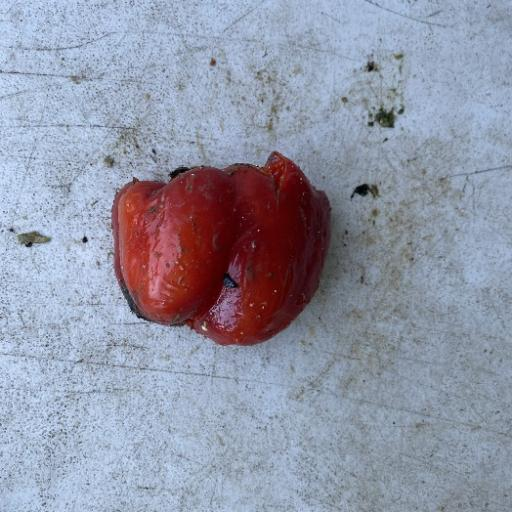Waste: (110, 149, 334, 348)
